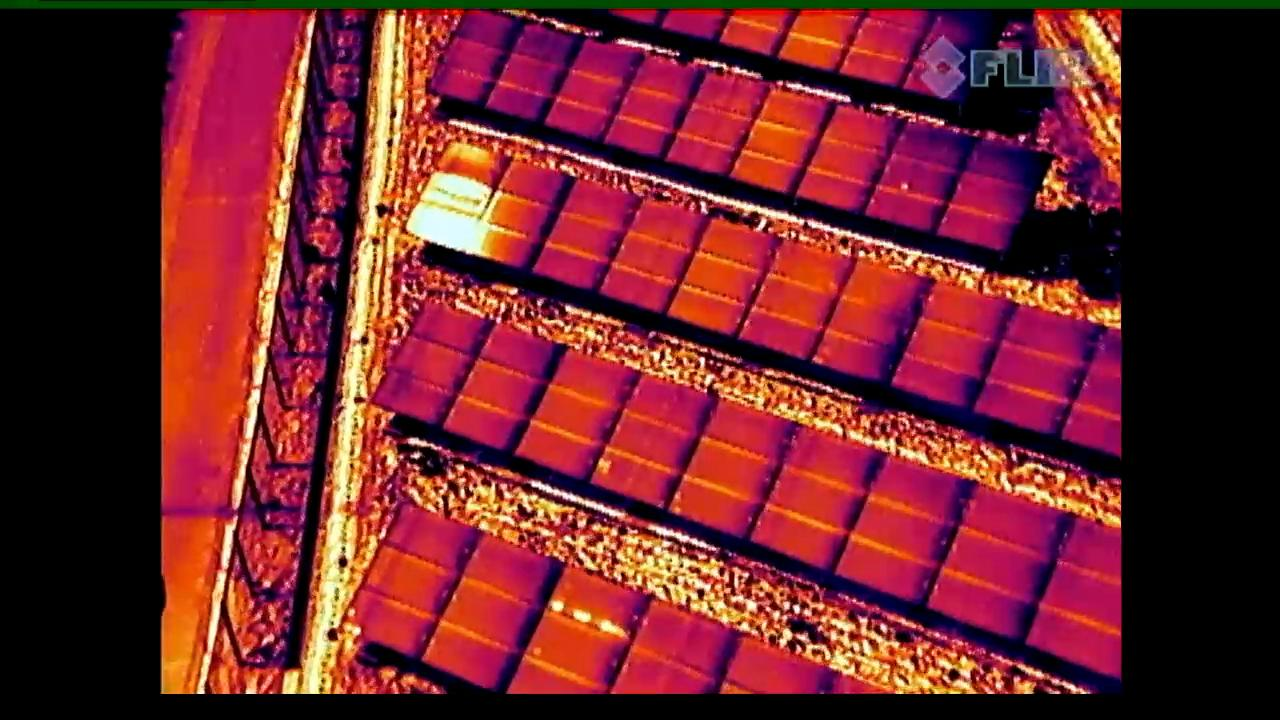hotspot: (569, 374, 718, 504)
